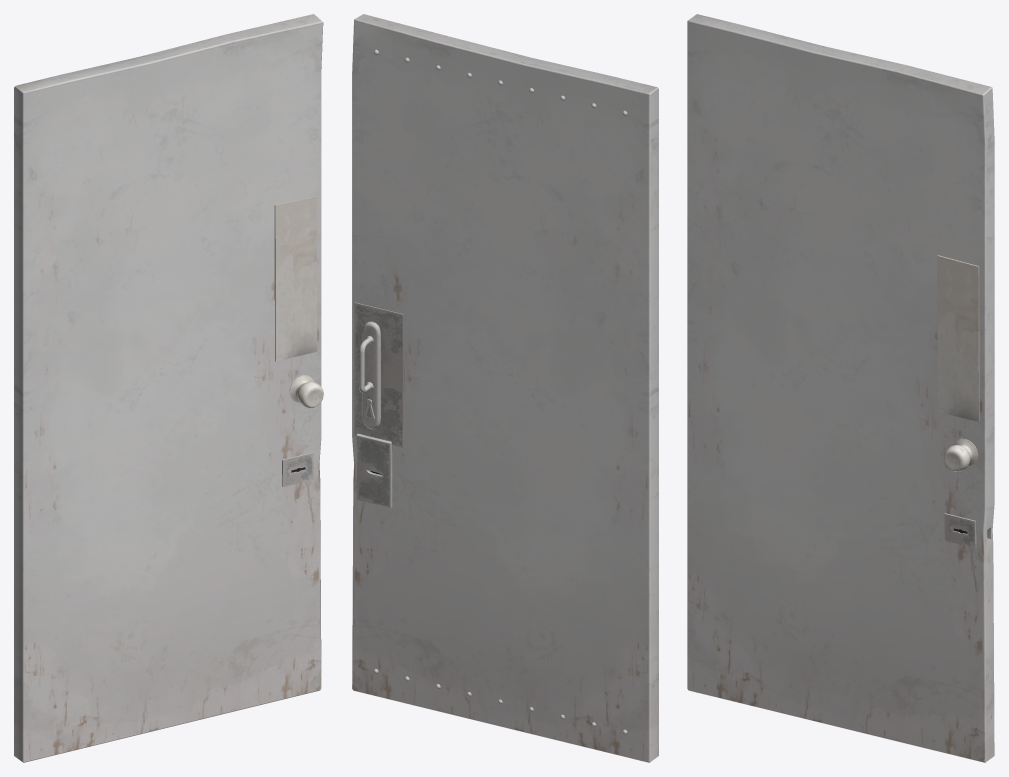
File: Door.gltf
3 renders of one model, left to right at view 1: azimuth 30°, elevation 25°; view 2: azimuth 150°, elevation 25°; view 3: azimuth 330°, elevation 25°, orthographic.
Parts seen in each view (by area): view 1: SM_HospitalDoor_02; view 2: SM_HospitalDoor_02; view 3: SM_HospitalDoor_02.
Boxes of the visible parts, <box> form: SM_HospitalDoor_02: <box>14,14,323,762</box>; SM_HospitalDoor_02: <box>352,14,658,762</box>; SM_HospitalDoor_02: <box>687,14,994,762</box>.
Size of the model in its own units: 0.96 by 2.06 by 0.1959.
1 material, 1 textured.
